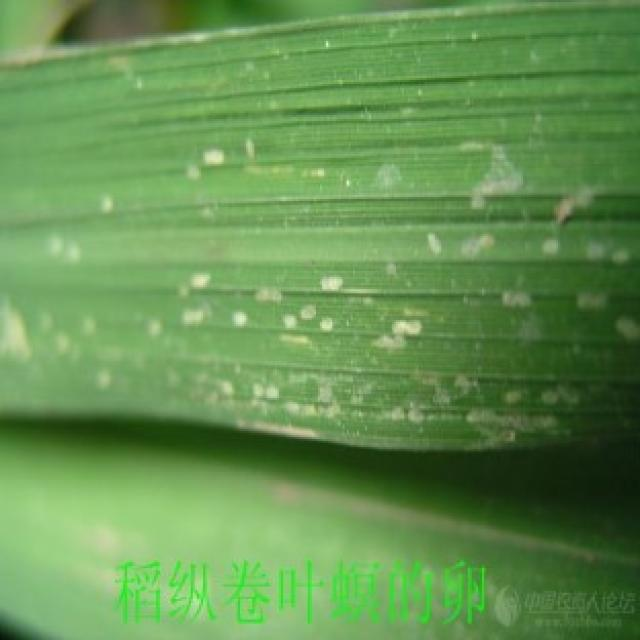rice leaf roller: (2, 72, 638, 447)
